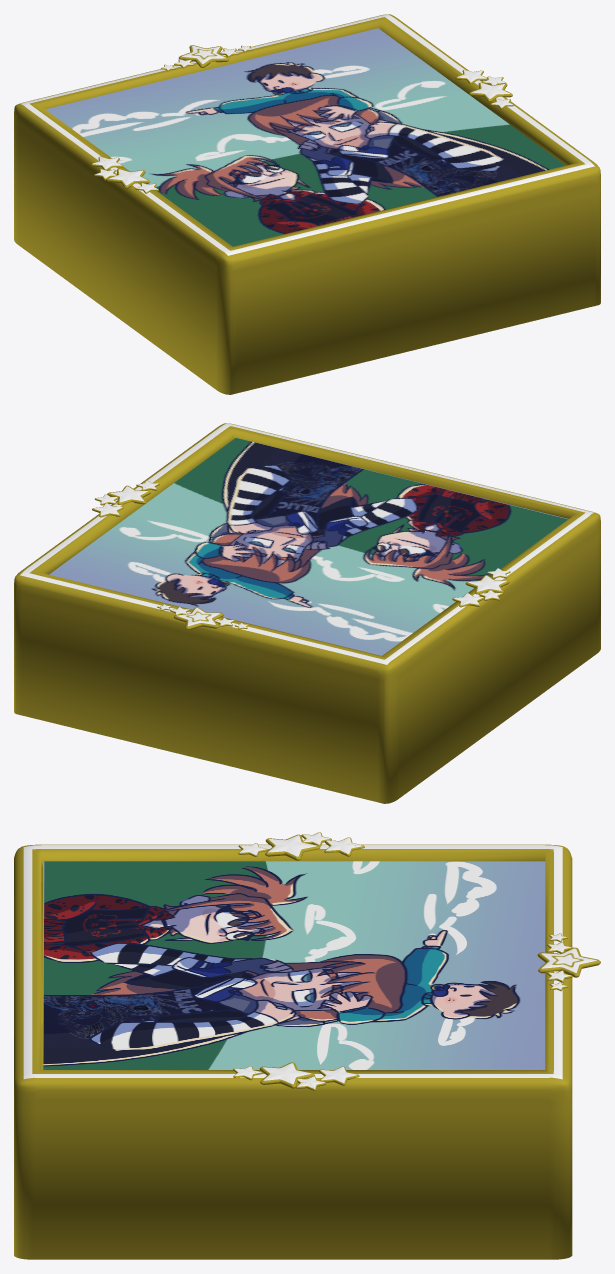
Rendered from Puzzle prueba.fbx.
3 renders of one model, top to bottom at view 1: azimuth 30°, elevation 25°; view 2: azimuth 150°, elevation 25°; view 3: azimuth 270°, elevation 25°, orthographic. The views are drawn at different scales.
Parts seen in each view (by area): view 1: tablon, Pieza 6.003, Pieza 6.005, Pieza 6.006, Pieza 6.016, Pieza 6.004, Pieza 6.015, Pieza 6.008, Pieza 6.007, Pieza 6.009, Pieza 6.013, Pieza 6 (+6 smaller); view 2: tablon, Pieza 6.004, Pieza 6.016, Pieza 6.002, Pieza 6.003, Pieza 6.006, Pieza 6.010, Pieza 6.011, Pieza 6.015, Pieza 6.005, Pieza 6.012, Pieza 6 (+6 smaller); view 3: tablon, Pieza 6.005, Pieza 6.010, Pieza 6.016, Pieza 6, Pieza 6.006, Pieza 6.011, Pieza 6.012, Pieza 6.013, Pieza 6.015, Pieza 6.008, Pieza 6.014 (+6 smaller).
Part boxes in pixels (x1,y1,x2,y2): tablon: (14,14,600,394); Pieza 6.003: (389,98,522,154); Pieza 6.005: (256,83,388,139); Pieza 6.006: (171,104,303,160); Pieza 6.016: (304,119,437,175); Pieza 6.004: (340,62,473,118); Pieza 6.015: (219,140,352,196); Pieza 6.008: (209,49,339,103); Pieza 6.007: (294,28,424,82); Pieza 6.009: (124,69,254,124); Pieza 6.013: (146,160,267,215); Pieza 6: (92,124,218,178); tablon: (14,423,600,803); Pieza 6.004: (89,509,222,565); Pieza 6.016: (223,494,356,550); Pieza 6.002: (187,438,320,494); Pieza 6.003: (138,473,271,529); Pieza 6.006: (259,551,392,607); Pieza 6.010: (272,458,405,514); Pieza 6.011: (357,479,489,535); Pieza 6.015: (308,515,441,571); Pieza 6.005: (174,530,307,586); Pieza 6.012: (442,500,568,554); Pieza 6: (344,571,470,626); tablon: (14,844,572,1259); Pieza 6.005: (297,968,423,1022); Pieza 6.010: (43,968,169,1022); Pieza 6.016: (170,968,296,1022); Pieza 6: (297,861,423,914); Pieza 6.006: (297,915,423,968); Pieza 6.011: (43,915,169,968); Pieza 6.012: (43,861,169,914); Pieza 6.013: (170,861,296,914); Pieza 6.015: (170,915,296,968); Pieza 6.008: (423,968,545,1022); Pieza 6.014: (423,861,545,914).
Bounding box in the file's own units: 2.41 × 0.7932 × 2.32.
